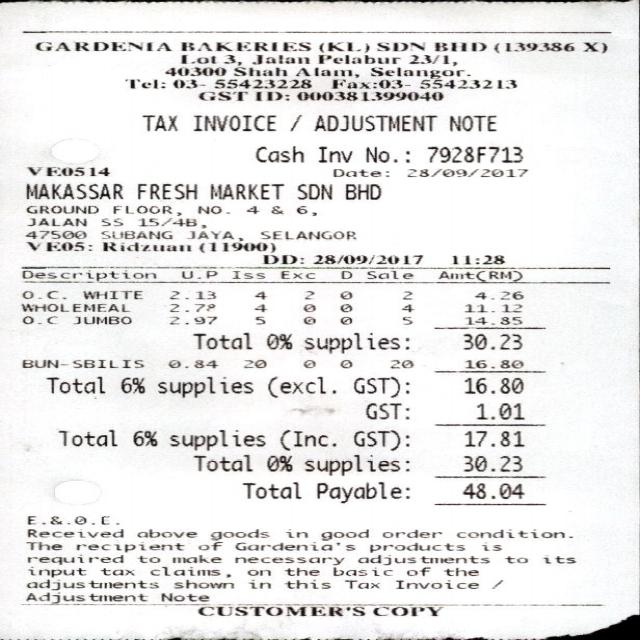text: (302, 332, 406, 352), (303, 454, 407, 474), (315, 481, 408, 503), (155, 376, 250, 397), (168, 428, 263, 449), (313, 114, 434, 130), (195, 605, 363, 615), (24, 182, 120, 198), (425, 146, 519, 162), (266, 376, 333, 397), (294, 91, 441, 100), (24, 591, 144, 602), (191, 114, 273, 130), (26, 579, 157, 589), (356, 554, 486, 564), (34, 40, 170, 49), (310, 253, 420, 264), (21, 270, 155, 279), (368, 66, 467, 78), (278, 428, 334, 449), (352, 376, 407, 397), (352, 428, 407, 449), (180, 41, 308, 50), (208, 182, 280, 198), (44, 376, 104, 394), (460, 482, 522, 498), (462, 376, 520, 393), (192, 454, 250, 471), (404, 168, 526, 176), (18, 302, 126, 311), (417, 78, 514, 88), (213, 78, 310, 88), (57, 428, 114, 445), (75, 542, 182, 551), (463, 430, 522, 446), (136, 182, 194, 198), (192, 332, 250, 348), (462, 455, 520, 471), (240, 481, 298, 497), (436, 270, 520, 281), (455, 528, 569, 536), (25, 514, 116, 524), (367, 542, 463, 551), (25, 554, 121, 563), (234, 556, 341, 564), (20, 359, 141, 366), (233, 542, 352, 549), (393, 578, 476, 588), (462, 334, 520, 348), (148, 566, 228, 576), (100, 241, 188, 250), (331, 78, 408, 88), (474, 402, 522, 418), (25, 528, 121, 536), (258, 230, 353, 238), (253, 145, 300, 161), (492, 42, 572, 51), (448, 114, 493, 130), (110, 204, 179, 214), (363, 402, 406, 418), (372, 605, 440, 615), (136, 217, 203, 227), (198, 242, 272, 251), (365, 146, 406, 162), (25, 166, 107, 174), (317, 54, 397, 62), (295, 66, 357, 76), (208, 529, 267, 539), (25, 566, 83, 576), (172, 578, 230, 588), (25, 241, 89, 250), (26, 205, 97, 213), (407, 53, 454, 65), (140, 114, 175, 130), (343, 183, 378, 199), (99, 230, 169, 238), (295, 182, 329, 198), (316, 146, 349, 162), (250, 54, 308, 63), (186, 230, 241, 239), (162, 66, 223, 74), (134, 528, 194, 536), (25, 230, 84, 238), (319, 529, 366, 539), (25, 217, 83, 225), (81, 290, 139, 298), (462, 316, 520, 324), (464, 360, 522, 368), (434, 41, 485, 50), (332, 566, 389, 574), (260, 253, 301, 264), (317, 42, 367, 51), (196, 90, 246, 99), (158, 593, 207, 602), (284, 578, 328, 588), (230, 66, 284, 74), (332, 168, 386, 176), (375, 41, 422, 50), (450, 254, 502, 262), (379, 529, 438, 536), (462, 304, 520, 311), (472, 291, 522, 299), (265, 332, 290, 348), (265, 455, 290, 471), (168, 302, 212, 311), (123, 78, 162, 88), (120, 376, 144, 392), (130, 430, 155, 445), (365, 270, 410, 278), (168, 290, 213, 298), (166, 359, 216, 366), (72, 316, 130, 322), (22, 290, 64, 298), (170, 555, 218, 562), (23, 540, 59, 549), (254, 91, 286, 100), (281, 566, 317, 574), (167, 316, 214, 322), (179, 54, 214, 62), (442, 567, 477, 575), (181, 270, 215, 278), (342, 580, 376, 588), (580, 41, 604, 52), (172, 79, 204, 87), (280, 270, 312, 278), (230, 270, 262, 278), (196, 205, 227, 213), (542, 555, 574, 562), (388, 358, 410, 368), (246, 578, 268, 588), (196, 540, 220, 549), (294, 204, 314, 214), (21, 316, 54, 322), (98, 568, 131, 574), (404, 566, 427, 574), (100, 217, 122, 225), (222, 54, 239, 64), (241, 359, 264, 366), (503, 555, 526, 562), (289, 114, 299, 130), (135, 555, 157, 562), (479, 543, 499, 550), (246, 568, 269, 574), (284, 531, 304, 537), (243, 205, 257, 213), (268, 205, 282, 213), (339, 302, 350, 311), (489, 580, 501, 588), (339, 290, 350, 298), (252, 290, 263, 298), (253, 303, 265, 310), (302, 303, 314, 310), (302, 359, 314, 366), (339, 270, 349, 278), (303, 290, 313, 298), (400, 304, 411, 311), (339, 359, 350, 366), (302, 316, 314, 322), (252, 316, 263, 322), (339, 316, 350, 322), (401, 290, 409, 298), (401, 315, 409, 323)
